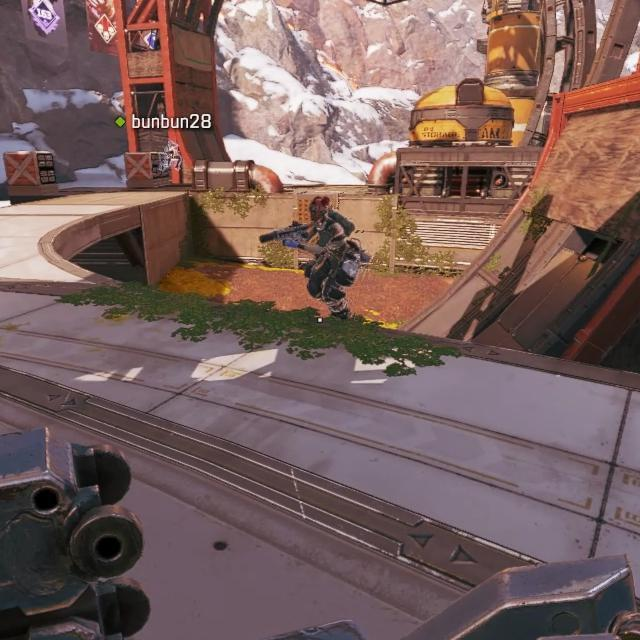avatar: (305, 196, 360, 321)
